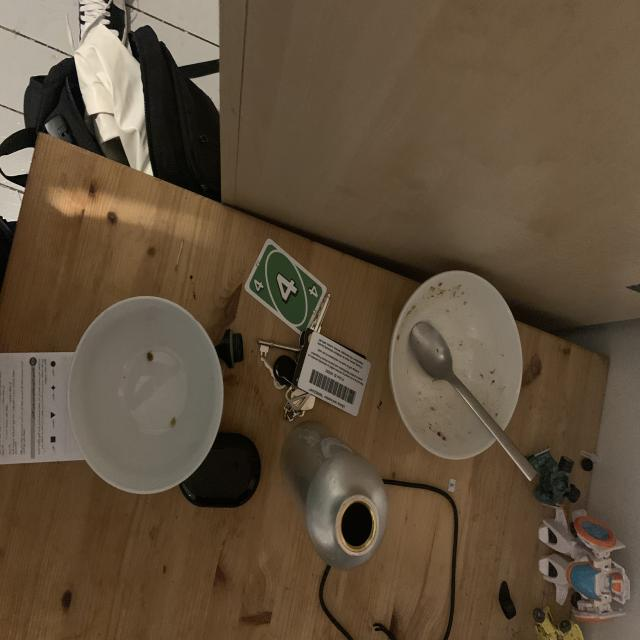lgreen-4: (251, 276, 268, 296)
